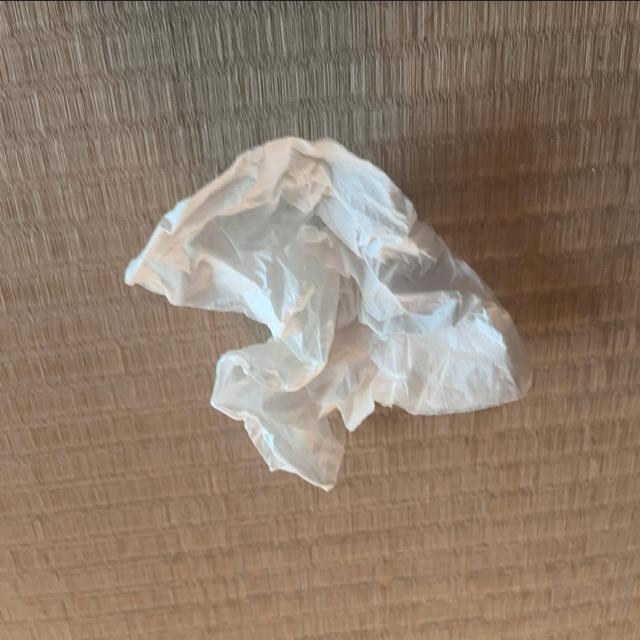Paper: (132, 126, 506, 475)
